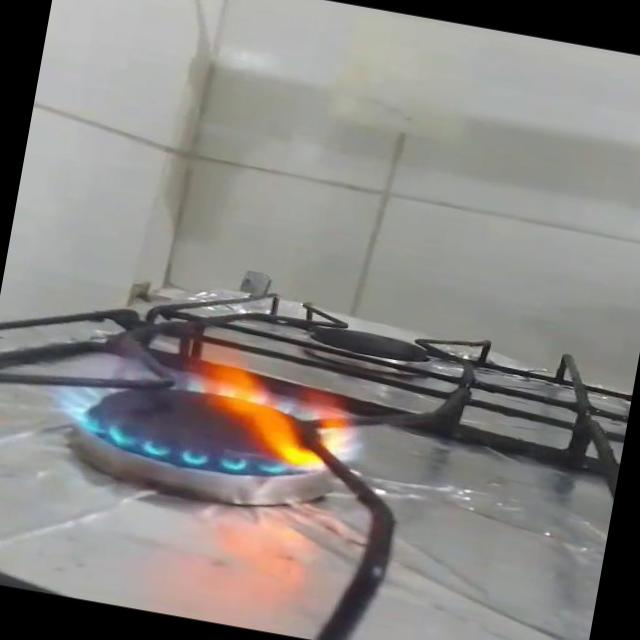Fire: (43, 306, 384, 494)
